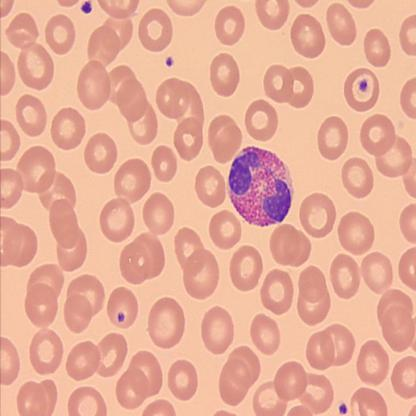Eosinophil: (227, 144, 293, 226)
